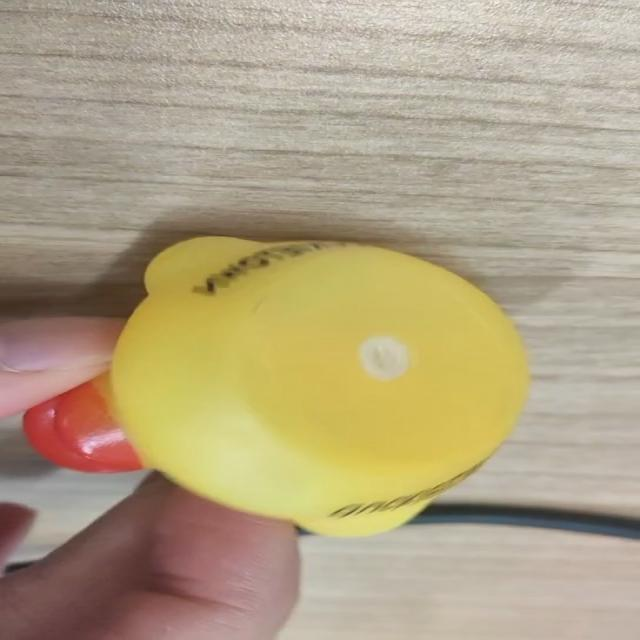rubber-duck: (23, 236, 527, 534)
